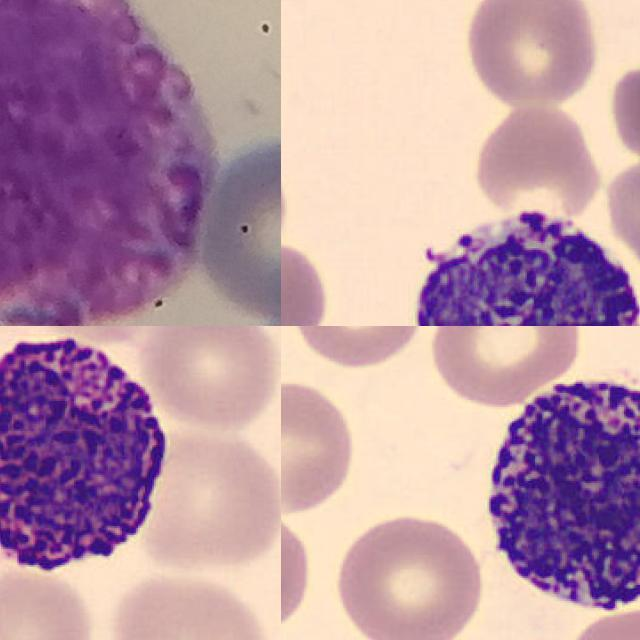Basophil: (0, 0, 220, 326), (0, 326, 177, 586), (469, 357, 640, 620), (397, 200, 640, 326)
RBC: (129, 420, 281, 575), (329, 507, 489, 640), (470, 100, 611, 218), (459, 0, 599, 110), (140, 326, 281, 432), (425, 326, 587, 409), (106, 567, 273, 640), (281, 375, 359, 518), (0, 565, 98, 640), (286, 326, 435, 371), (603, 153, 640, 278), (281, 239, 331, 326), (605, 59, 640, 161)
